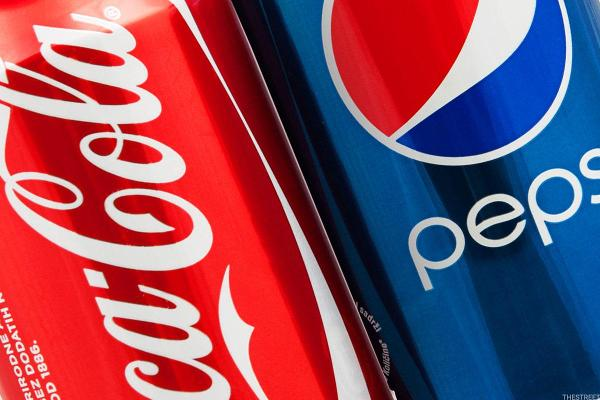pepsi: (316, 0, 570, 163)
